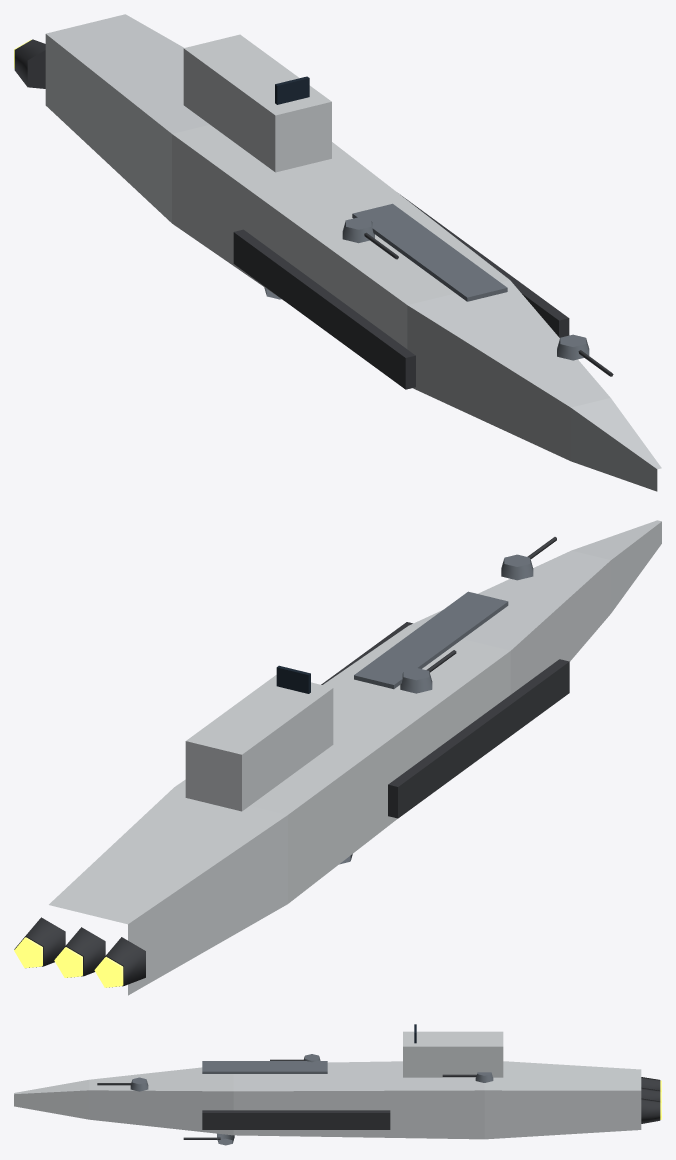
The model's file is space_ship_destroyer_mk2_lod1.glb.
3 views of the same model, one above another, from view 1: azimuth 30°, elevation 25°; view 2: azimuth 150°, elevation 25°; view 3: azimuth 270°, elevation 25° (orthographic). The views are drawn at different scales.
Visible parts, largest first — view 1: body, engine_0, turret_0, turret_2; view 2: body, engine_0, engine_2, engine_1, turret_0, turret_2; view 3: body, engine_2, turret_0, turret_1, turret_4, engine_0, engine_1.
Part boxes in pixels (bbox=[...]): body: bbox=[45, 14, 661, 491]; engine_0: bbox=[14, 39, 45, 88]; turret_0: bbox=[557, 334, 613, 376]; turret_2: bbox=[342, 217, 398, 259]; body: bbox=[49, 520, 661, 995]; engine_0: bbox=[94, 937, 145, 987]; engine_2: bbox=[14, 917, 65, 968]; engine_1: bbox=[54, 927, 105, 977]; turret_0: bbox=[501, 537, 556, 580]; turret_2: bbox=[400, 650, 456, 693]; body: bbox=[14, 1024, 641, 1139]; engine_2: bbox=[641, 1098, 661, 1123]; turret_0: bbox=[97, 1077, 148, 1091]; turret_1: bbox=[183, 1133, 234, 1145]; turret_4: bbox=[442, 1072, 493, 1082]; engine_0: bbox=[641, 1077, 661, 1091]; engine_1: bbox=[641, 1087, 661, 1101].
Bounding box in the file's own units: 8.1 × 9.17 × 50.9.
